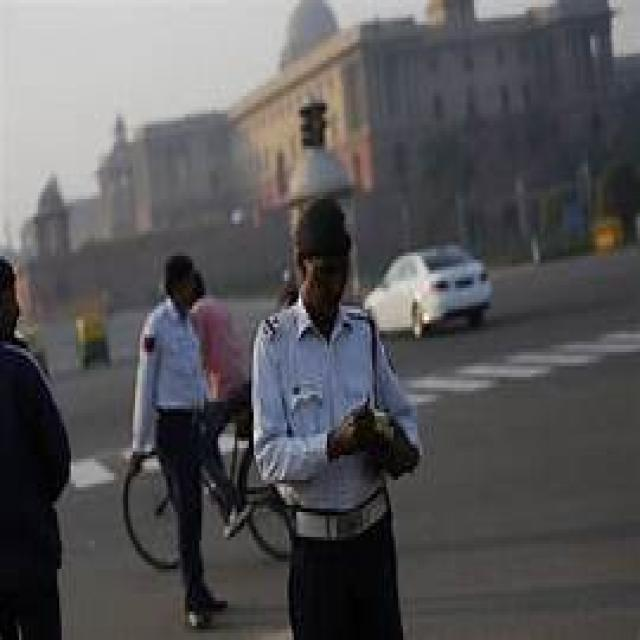Auto: (76, 313, 110, 368)
Car: (364, 246, 493, 337)
